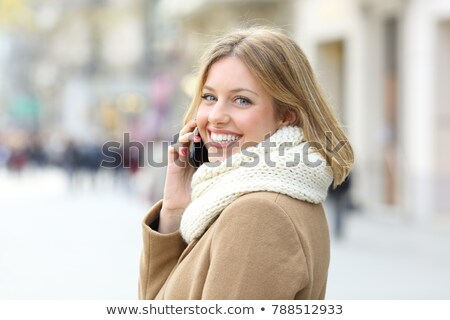phone: (174, 117, 209, 173)
talk: (166, 81, 273, 204)
